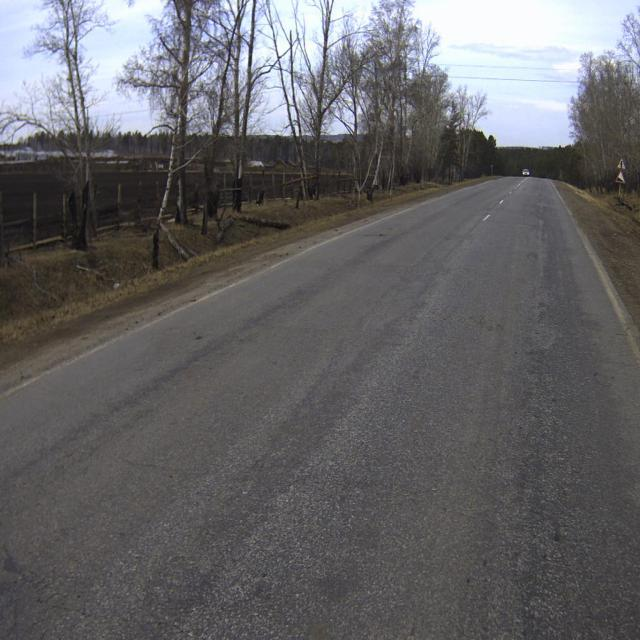road: (0, 176, 640, 639)
